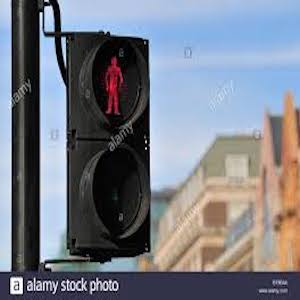red: (98, 52, 126, 117)
